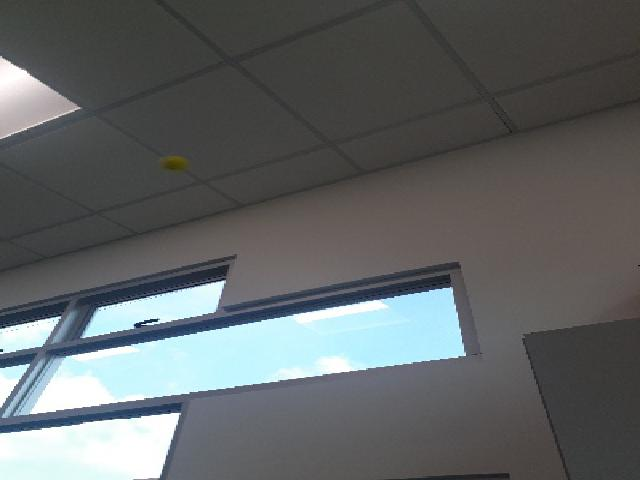Ball: (157, 155, 189, 172)
